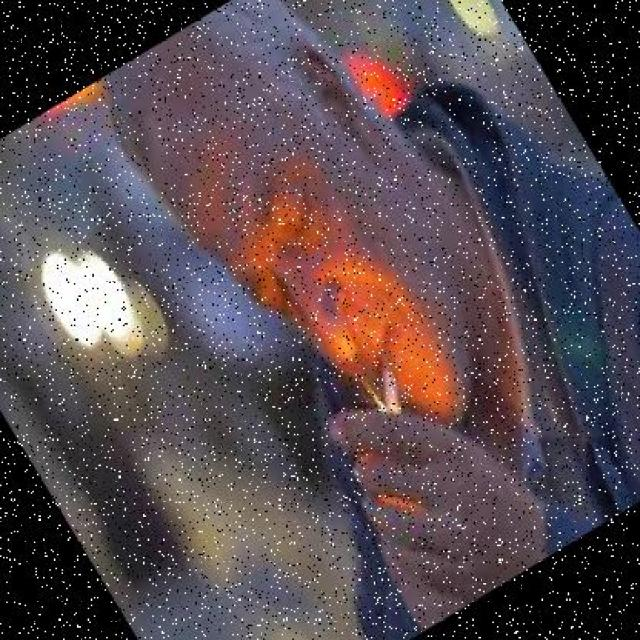fire: (348, 370, 397, 428)
